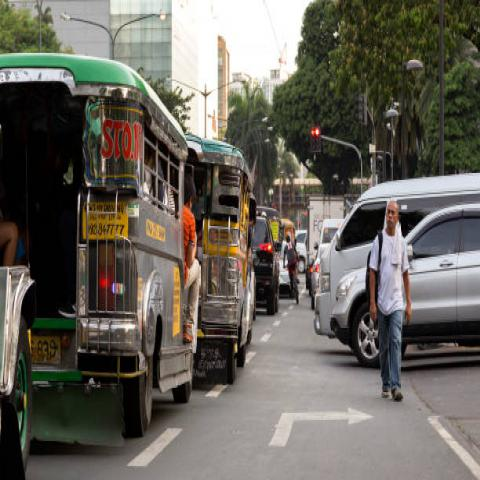car: (318, 170, 479, 345), (334, 204, 480, 367), (253, 214, 278, 322)
truck: (0, 49, 194, 439), (188, 128, 252, 380)
